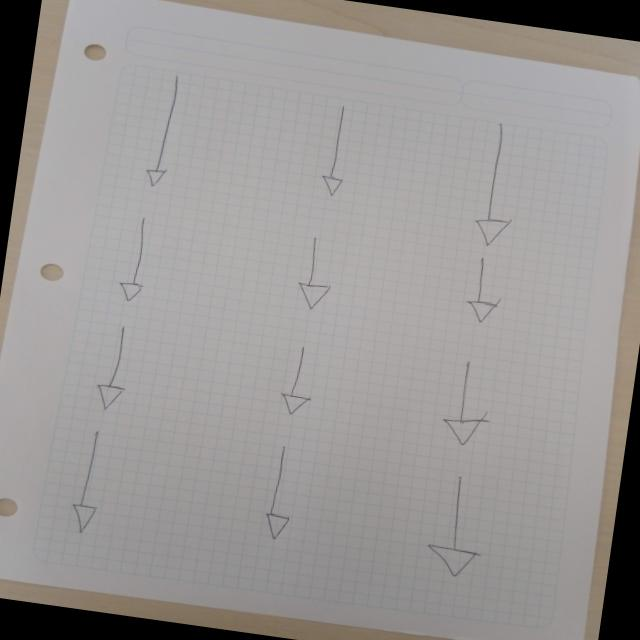arrow_line_down: (462, 120, 533, 254), (428, 471, 494, 586), (70, 426, 120, 546), (434, 360, 494, 456), (252, 446, 308, 547), (312, 105, 368, 201), (292, 234, 347, 316), (145, 72, 183, 190), (94, 324, 139, 415), (121, 215, 158, 307), (280, 346, 320, 426), (466, 260, 505, 328)
